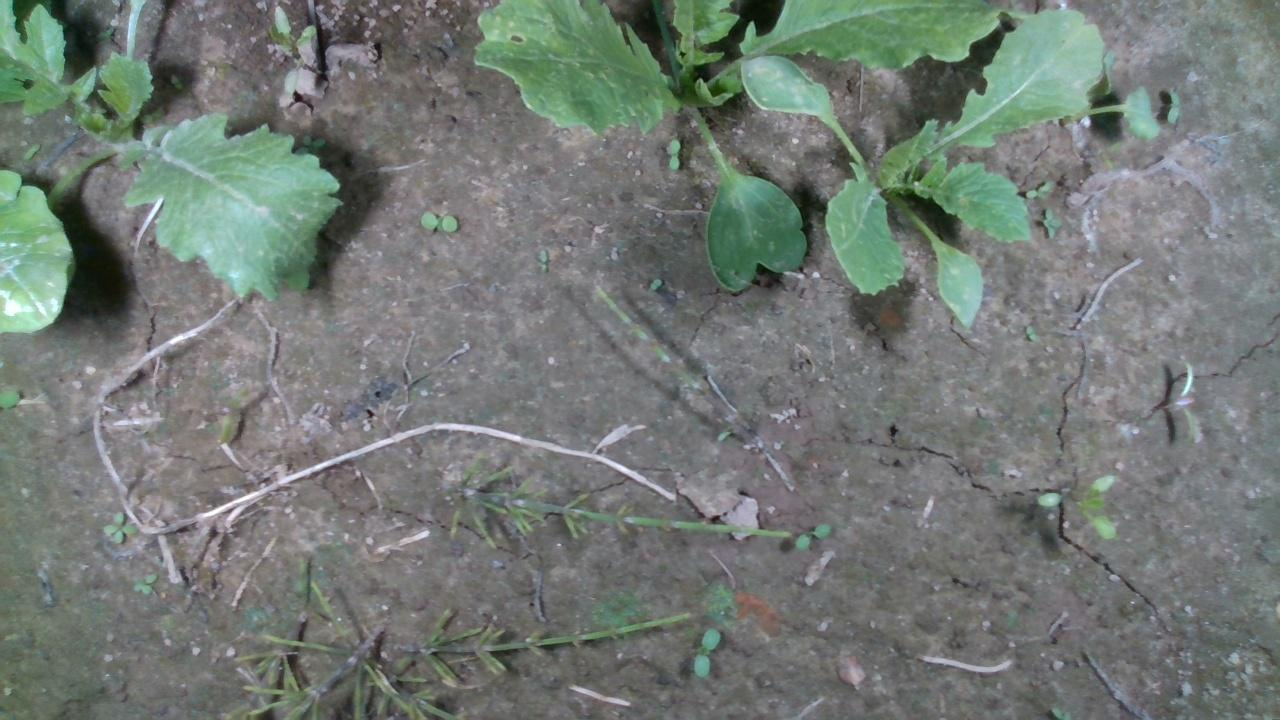weed: (214, 382, 252, 446), (1176, 358, 1196, 445), (691, 626, 721, 677), (793, 521, 831, 551), (101, 509, 134, 543), (417, 210, 459, 232), (1039, 205, 1060, 238), (1024, 178, 1052, 201), (1164, 88, 1180, 127), (131, 571, 157, 594), (1033, 488, 1063, 507), (664, 136, 680, 170), (537, 247, 548, 274), (647, 276, 663, 291)
